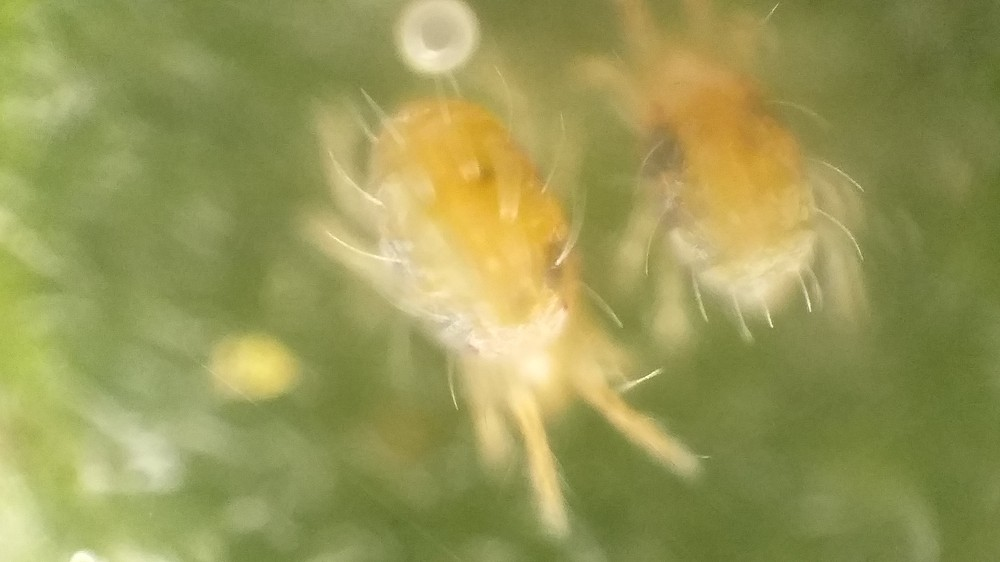Aracnido Rojo: (330, 79, 692, 542), (585, 10, 894, 366)
